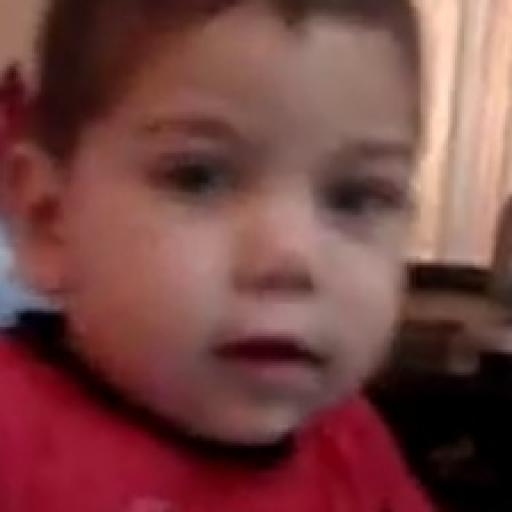Autism: (74, 10, 409, 476)
